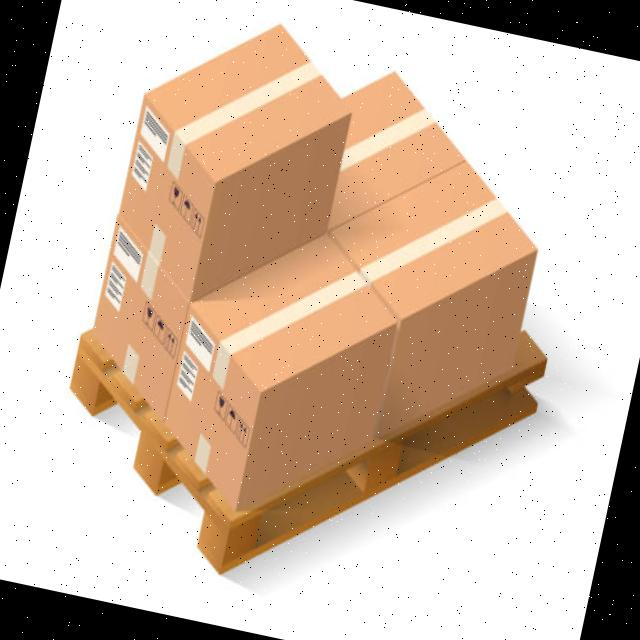Wooden-Pallets: (60, 337, 549, 575)
